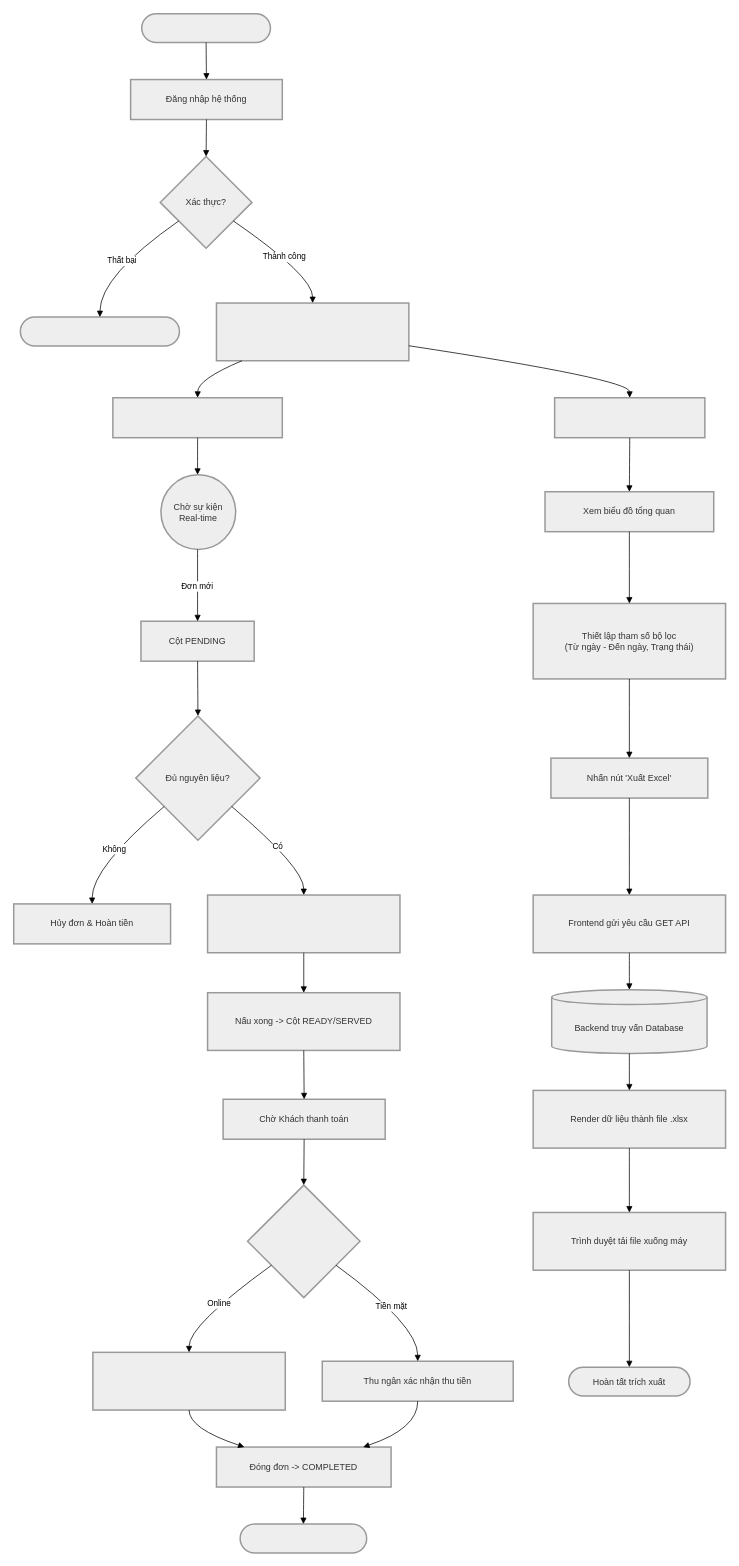
This 739x1566 diagram has some shape labels left out. The shapes that lost their labels are listed below. From the top down, each one's centre as x and y in pixels, then its label:
point (206, 28): Admin/Staff Mở Web
point (99, 331): Báo lỗi / Yêu cầu nhập lại
point (312, 331): Màn hình Dashboard Quản lý
point (197, 417): Quản lý Đơn hàng - KDS
point (629, 417): Báo cáo & Thống kê
point (303, 923): Bếp nhận đơn -> Cột COOKING
point (303, 1241): Phương thức?
point (189, 1380): Hệ thống kiểm tra Webhook
point (303, 1538): Reset trạng thái Bàn
